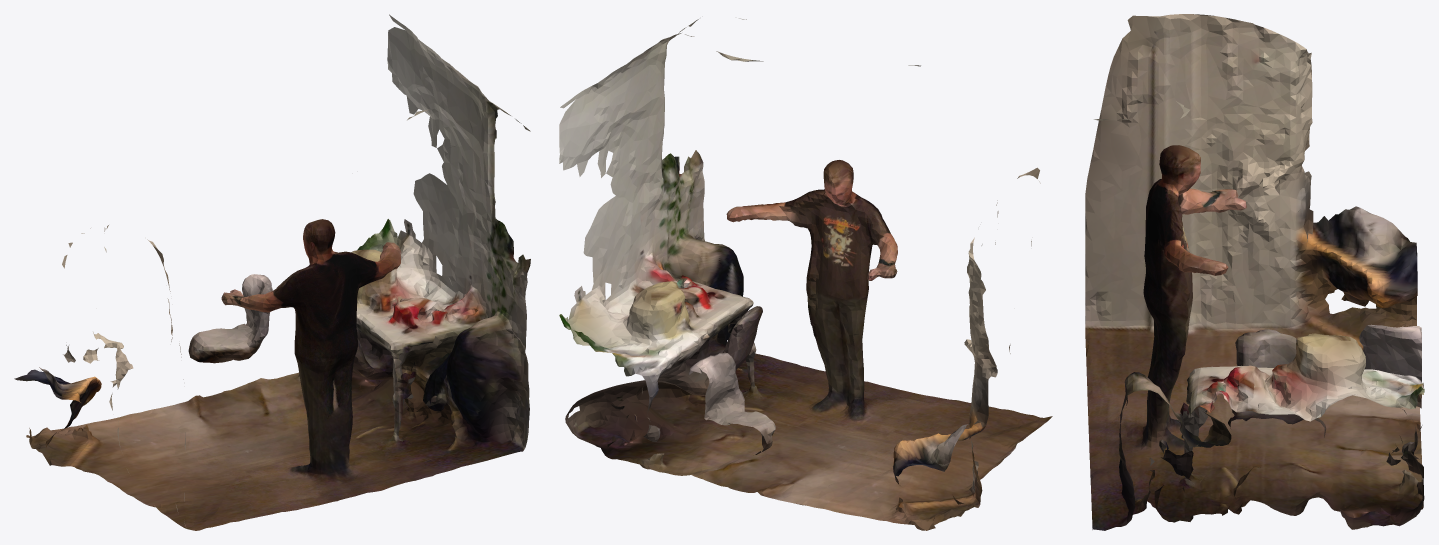
The model's file is mbo_friends_Liam.glb.
3 renders of one model, left to right at view 1: azimuth 30°, elevation 25°; view 2: azimuth 150°, elevation 25°; view 3: azimuth 270°, elevation 25°, orthographic. The views are drawn at different scales.
Size of the model in its own units: 2.93 by 2.53 by 1.92.
Materials: 1 (1 with a texture image).
